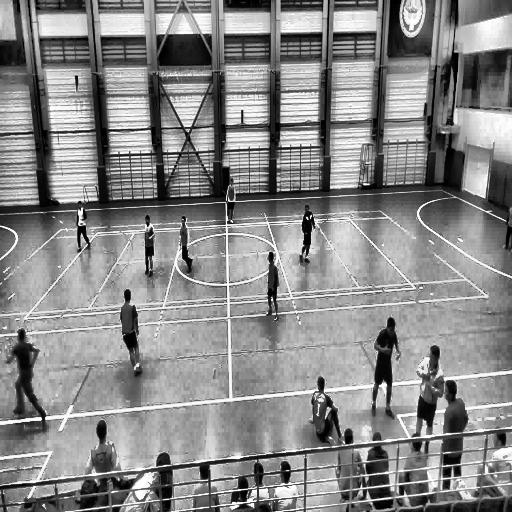player: (4, 328, 46, 427), (412, 344, 446, 452), (371, 316, 400, 416), (121, 288, 143, 376), (265, 250, 280, 319), (300, 205, 315, 262), (75, 200, 92, 250), (143, 215, 155, 276), (179, 216, 192, 272), (225, 179, 236, 224)
